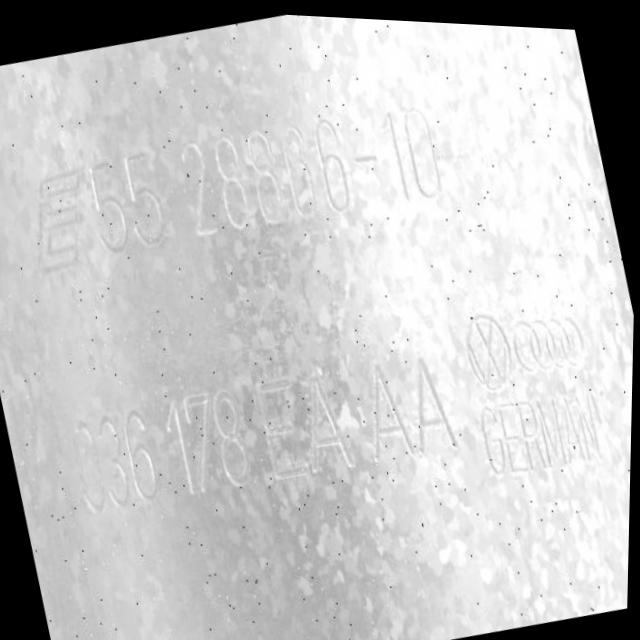ocr: (41, 257, 636, 604), (20, 74, 469, 310)
